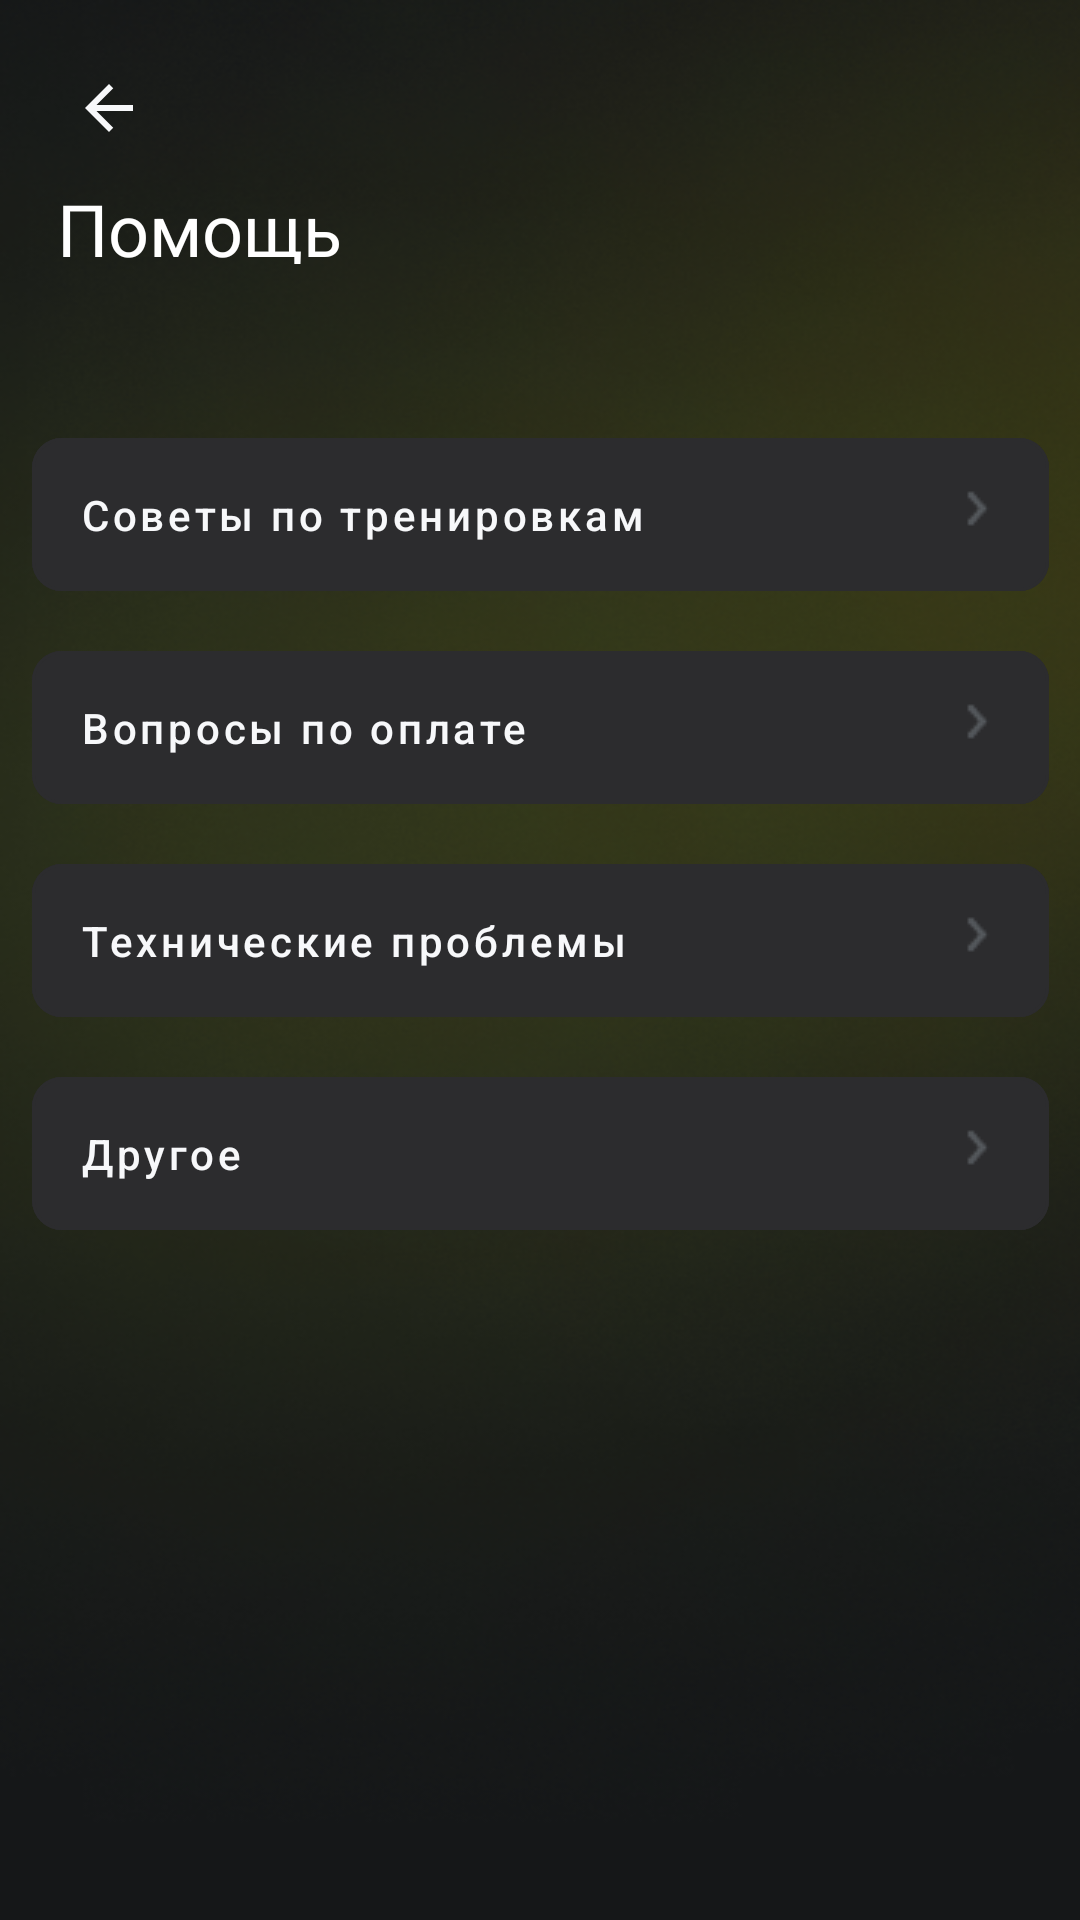

Screen size 1080 × 1920. Icon name, then its center in pixels as point (x, y):
arrow: point (977, 508), point (977, 721), point (977, 934), point (977, 1147)
iconbackvector: point (109, 108)
